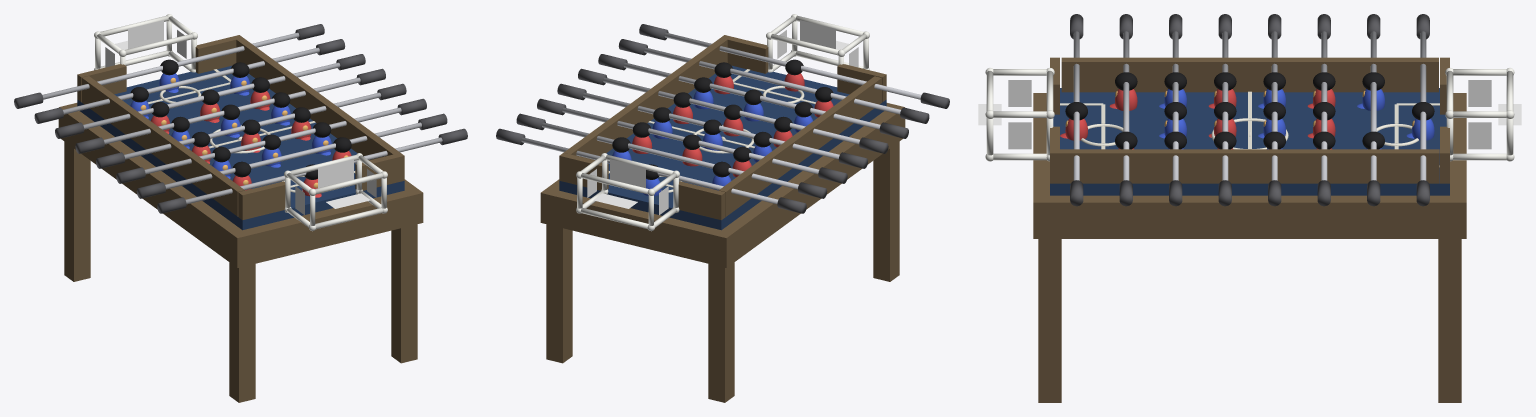
Rendered from Foosball Table.fbx.
3 views of the same model, side by side, from view 1: azimuth 30°, elevation 25°; view 2: azimuth 150°, elevation 25°; view 3: azimuth 270°, elevation 25° (orthographic). The views are drawn at different scales.
Visible parts, largest first — view 1: Surface, Frame_Side_L, Frame_End_F, SideWall_L, SideWall_R, Leg_L_F, Leg_R_F, Leg_L_N, EndWall_Far_L, Rod_P1_0_Shaft, Rod_P1_1_Shaft, Rod_P2_6_Shaft (+14 smaller); view 2: Surface, Frame_Side_L, Frame_End_N, SideWall_L, SideWall_R, Leg_L_N, Leg_R_N, Leg_L_F, EndWall_Near_L, Rod_P2_7_Shaft, Rod_P2_6_Shaft, Rod_P1_1_Shaft (+14 smaller); view 3: Frame_Side_R, Surface, SideWall_R, SideWall_L, Leg_R_F, Leg_R_N, Frame_End_F, Frame_End_N, Rod_P1_0_Shaft, Rod_P2_7_Shaft, Rod_P1_1_Shaft, Rod_P2_6_Shaft (+10 smaller).
Part boxes in pixels (left/top/right/bottom): Surface: left=77, top=65, right=404, bottom=230; Frame_Side_L: left=58, top=104, right=249, bottom=267; Frame_End_F: left=243, top=191, right=411, bottom=264; SideWall_L: left=82, top=76, right=244, bottom=216; SideWall_R: left=236, top=38, right=399, bottom=160; Leg_L_F: left=229, top=262, right=255, bottom=402; Leg_R_F: left=391, top=224, right=417, bottom=363; Leg_L_N: left=64, top=141, right=90, bottom=281; EndWall_Far_L: left=238, top=181, right=285, bottom=220; Rod_P1_0_Shaft: left=42, top=32, right=299, bottom=99; Rod_P1_1_Shaft: left=63, top=47, right=319, bottom=114; Rod_P2_6_Shaft: left=165, top=122, right=421, bottom=189; Surface: left=559, top=65, right=886, bottom=230; Frame_Side_L: left=714, top=104, right=905, bottom=267; Frame_End_N: left=552, top=191, right=720, bottom=264; SideWall_L: left=719, top=76, right=881, bottom=216; SideWall_R: left=564, top=38, right=727, bottom=160; Leg_L_N: left=708, top=262, right=734, bottom=402; Leg_R_N: left=546, top=224, right=572, bottom=363; Leg_L_F: left=873, top=141, right=899, bottom=281; EndWall_Near_L: left=678, top=181, right=725, bottom=220; Rod_P2_7_Shaft: left=664, top=32, right=921, bottom=99; Rod_P2_6_Shaft: left=644, top=47, right=900, bottom=114; Rod_P1_1_Shaft: left=542, top=122, right=798, bottom=189; Frame_Side_R: left=1033, top=195, right=1466, bottom=238; Surface: left=1050, top=88, right=1449, bottom=195; SideWall_R: left=1060, top=149, right=1439, bottom=183; SideWall_L: left=1061, top=57, right=1438, bottom=92; Leg_R_F: left=1038, top=239, right=1061, bottom=402; Leg_R_N: left=1438, top=239, right=1461, bottom=402; Frame_End_F: left=1033, top=100, right=1049, bottom=195; Frame_End_N: left=1450, top=100, right=1466, bottom=195; Rod_P1_0_Shaft: left=1420, top=31, right=1426, bottom=180; Rod_P2_7_Shaft: left=1073, top=31, right=1079, bottom=180; Rod_P1_1_Shaft: left=1370, top=31, right=1376, bottom=180; Rod_P2_6_Shaft: left=1123, top=31, right=1129, bottom=180.
Bounding box in the file's own units: 128 × 89.5 × 163.
